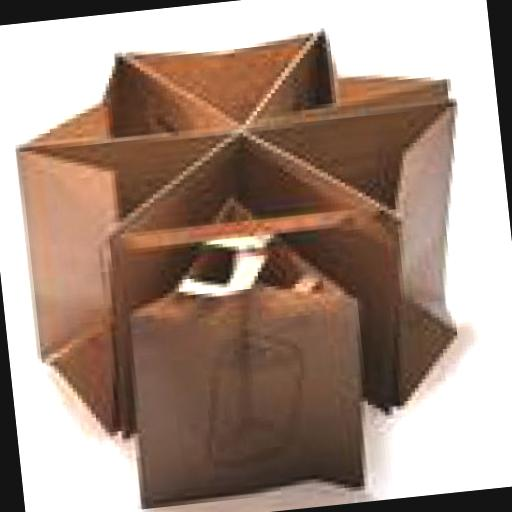cardboard: (0, 15, 491, 512)
